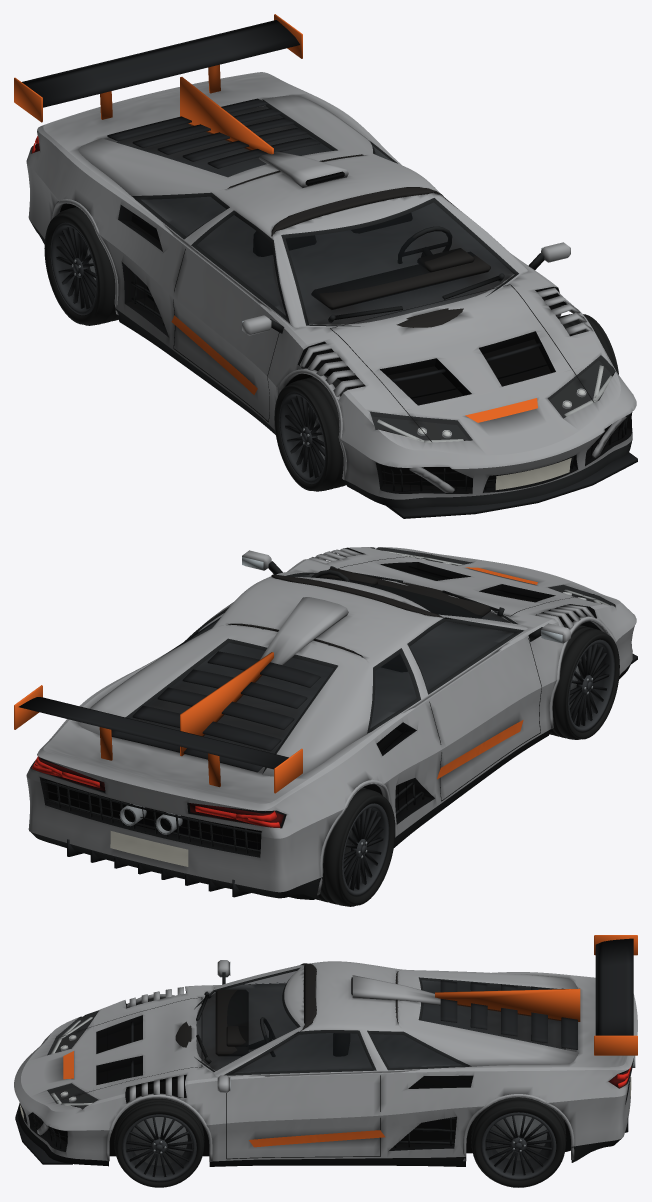
Rendered from lamborghini-huracan-sto.glb.
3 renders of one model, top to bottom at view 1: azimuth 30°, elevation 25°; view 2: azimuth 150°, elevation 25°; view 3: azimuth 270°, elevation 25°, orthographic. The views are drawn at different scales.
Parts seen in each view (by area): view 1: Coachwork, Body, Wheel_FR, Wheel_RR, Plate, Headlights; view 2: Coachwork, Body, Wheel_RR, Wheel_FR, Plate, Taillights; view 3: Coachwork, Body, Wheel_RL, Wheel_FL, Headlights.
Boxes of the visible parts, x1,y1,x2,y2 form: Coachwork: [26, 72, 636, 508]; Body: [14, 14, 637, 518]; Wheel_FR: [274, 375, 348, 491]; Wheel_RR: [44, 206, 118, 325]; Plate: [495, 458, 571, 490]; Headlights: [377, 365, 612, 442]; Coachwork: [26, 547, 636, 899]; Body: [14, 547, 637, 897]; Wheel_RR: [316, 787, 395, 906]; Wheel_FR: [550, 624, 619, 739]; Plate: [110, 831, 188, 866]; Taillights: [32, 756, 280, 827]; Coachwork: [14, 972, 637, 1166]; Body: [15, 935, 637, 1164]; Wheel_RL: [471, 1097, 566, 1187]; Wheel_FL: [114, 1098, 204, 1187]; Headlights: [51, 1017, 92, 1106].
Bounding box in the file's own units: 2.16 × 1.22 × 4.55.
